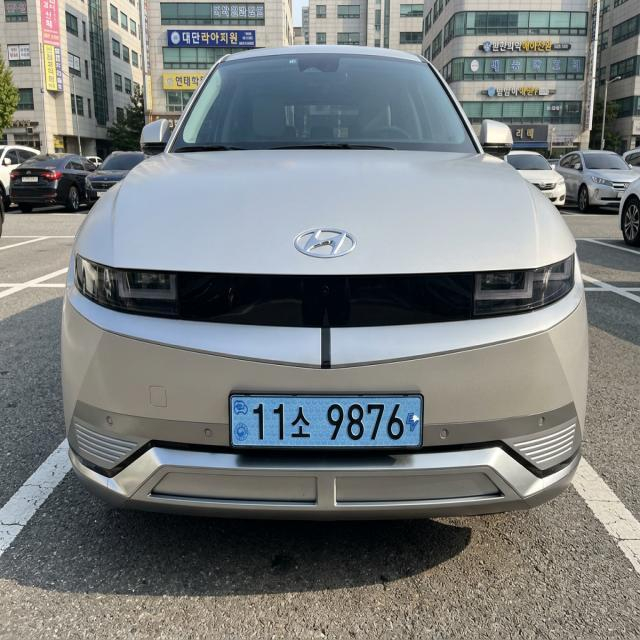car: (219, 386, 434, 464)
carev: (231, 396, 251, 450), (405, 396, 423, 449)
